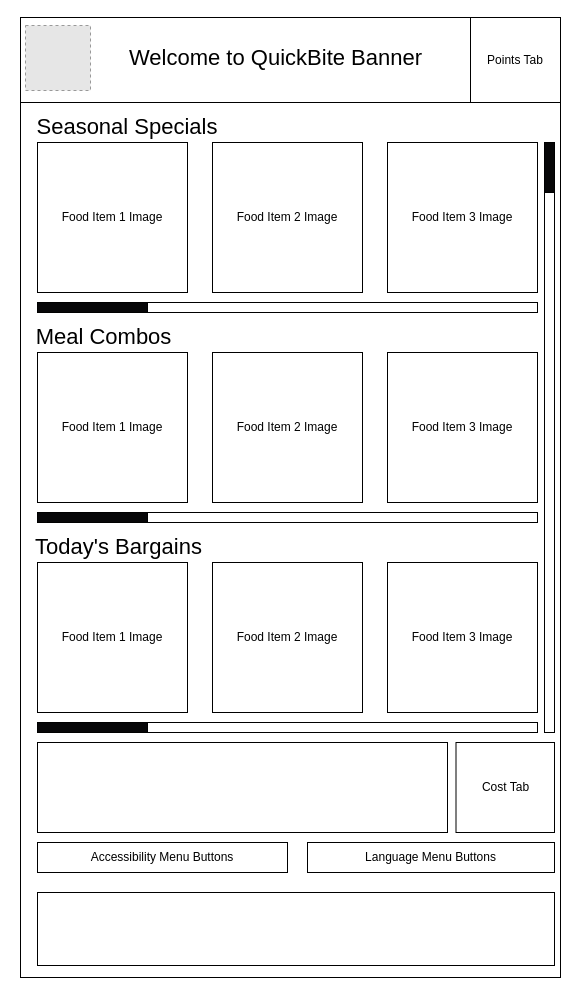
This 578x995 diagram has some shape labels left out. Grey dashed boxes stand in for pictures. The centre of each missing label's shape, as x and y in pixels:
Advertisement Banner: the point at 295,929
Checkout Button: the point at 242,787
